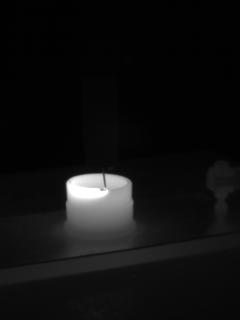tip_wire_left: (85, 164, 106, 190)
tip_wire_right: (104, 163, 118, 190)
